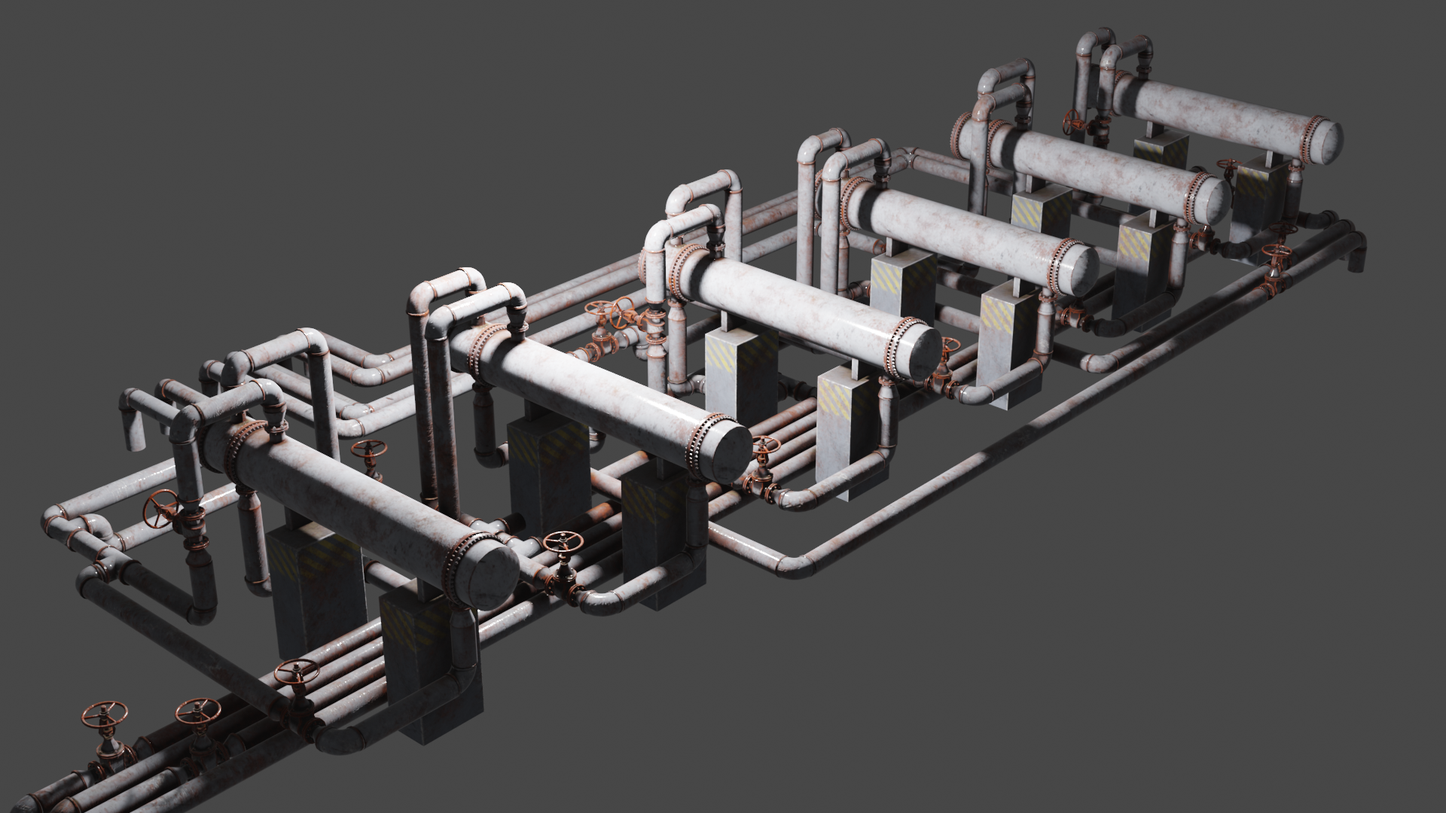HE_1: (1090, 63, 1343, 164)
HE_2: (945, 112, 1232, 224)
HE_3: (838, 176, 1098, 294)
HE_4: (662, 234, 946, 380)
HE_5: (447, 319, 751, 486)
HE_6: (196, 409, 521, 603)
